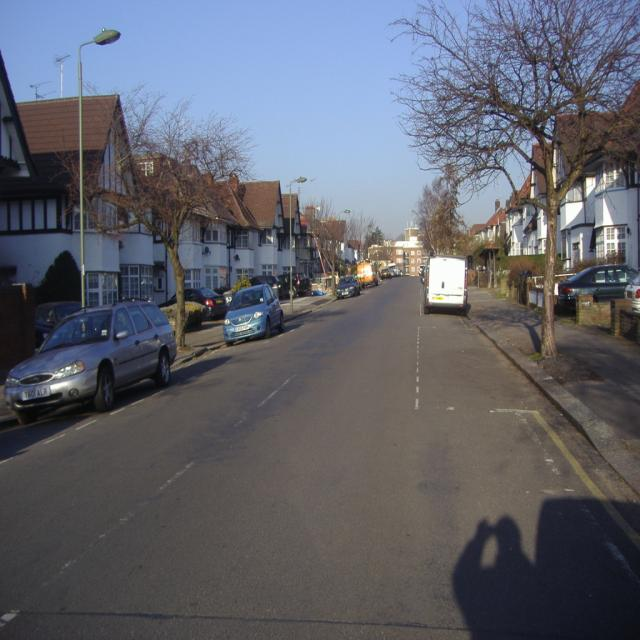car: (4, 292, 178, 416), (220, 282, 283, 347), (334, 273, 359, 298)
